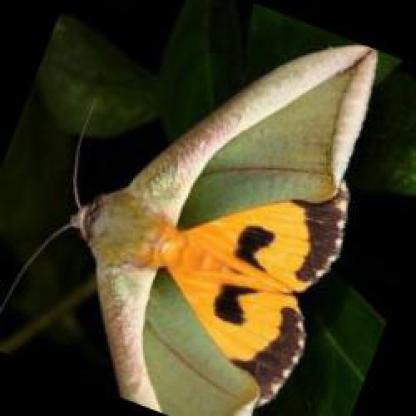fruit sucking moth: (75, 47, 373, 408)
